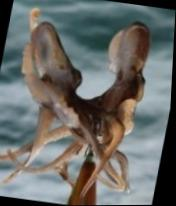Cephalopod: (0, 8, 151, 205)
